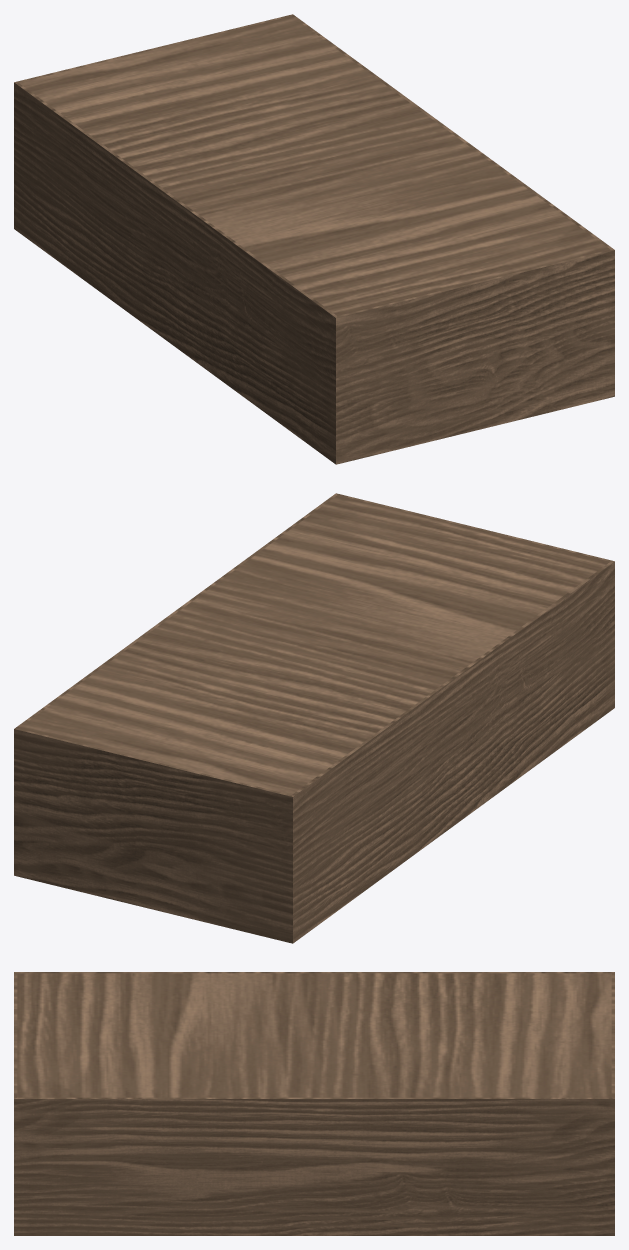
Rendered from RQS257.glb.
3 renders of one model, top to bottom at view 1: azimuth 30°, elevation 25°; view 2: azimuth 150°, elevation 25°; view 3: azimuth 270°, elevation 25°, orthographic. The views are drawn at different scales.
Visible parts, largest first — view 1: RQS257 v1; view 2: RQS257 v1; view 3: RQS257 v1.
Boxes of the visible parts, x1,y1,x2,y2 form: RQS257 v1: (14,14,614,464); RQS257 v1: (14,493,614,943); RQS257 v1: (14,972,614,1235).
Size of the model in its own units: 23.63 by 11.87 by 47.25.
Materials: 1 (1 with a texture image).
